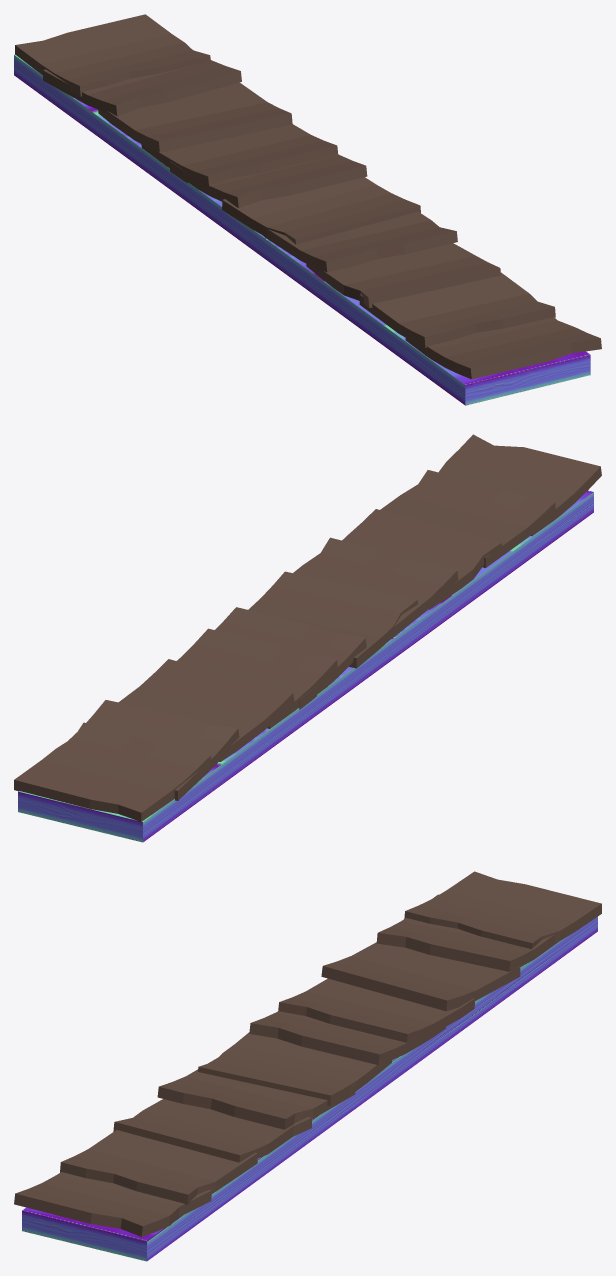
Rendered from SM_RoofTrim_A.fbx.
3 renders of one model, top to bottom at view 1: azimuth 30°, elevation 25°; view 2: azimuth 150°, elevation 25°; view 3: azimuth 330°, elevation 25°, orthographic.
Visible parts, largest first — view 1: SM_RoofTrim_A; view 2: SM_RoofTrim_A; view 3: SM_RoofTrim_A.
Boxes of the visible parts, x1,y1,x2,y2 form: SM_RoofTrim_A: (14, 14, 601, 405); SM_RoofTrim_A: (14, 434, 601, 842); SM_RoofTrim_A: (14, 871, 601, 1261).
Bounding box in the file's own units: 34.59 × 10.63 × 204.
